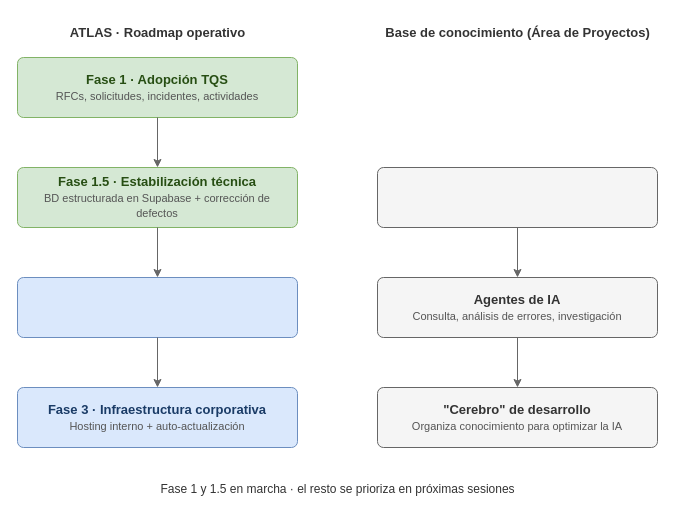
This 675x518 diagram has some shape labels left out. The box of each missing label's shape, as (x1, y1, x2, y2) in pixels:
Documentación de procedimientos Guías, evidencias paso a paso, bitácoras: (376, 166, 658, 228)
Fase 2 · Perfiles directivos Dashboards ejecutivos y métricas: (16, 276, 298, 338)
